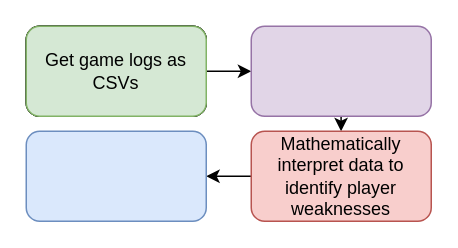
Image size: 458x248. Some labels were removed from this diagram. The shapes that lost their labels are listed below. From the top down, each one's centre as x and y in pixels, then its label:
At point (340, 70): "Parse logs into player stats in pandas data frame.".
At point (115, 175): "Adjust bot strategy to indvidual players".
